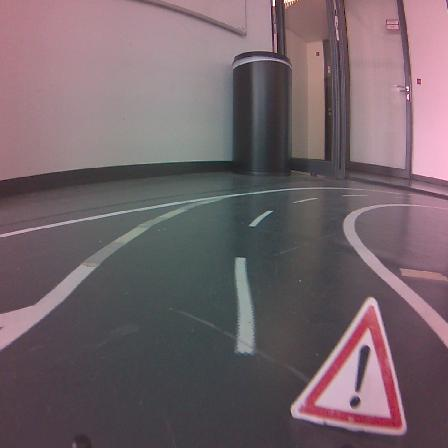ATTENTION: (291, 298, 406, 434)
